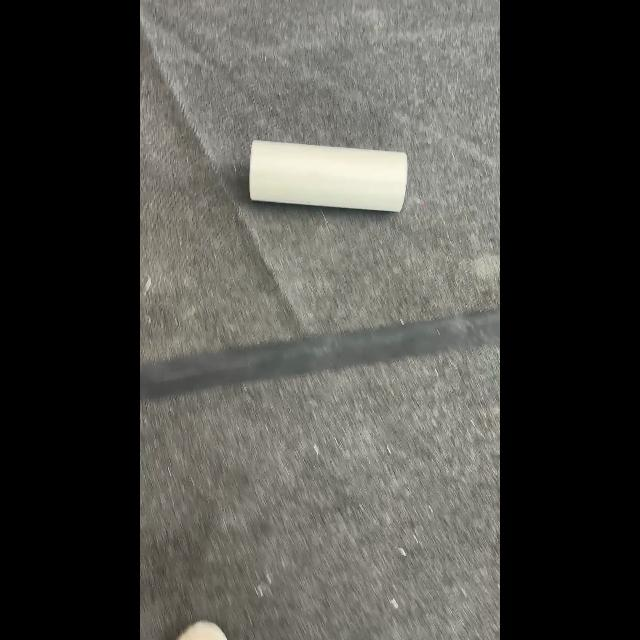CORAL: (248, 139, 408, 213)
